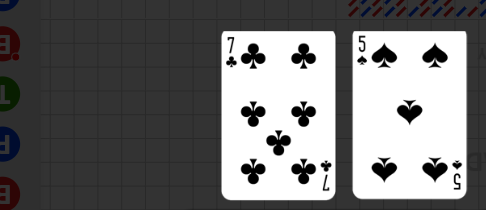5S: (451, 158, 463, 191)
7C: (224, 35, 239, 70)
